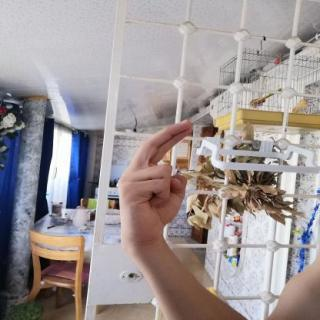ZAY: (112, 113, 202, 250)
